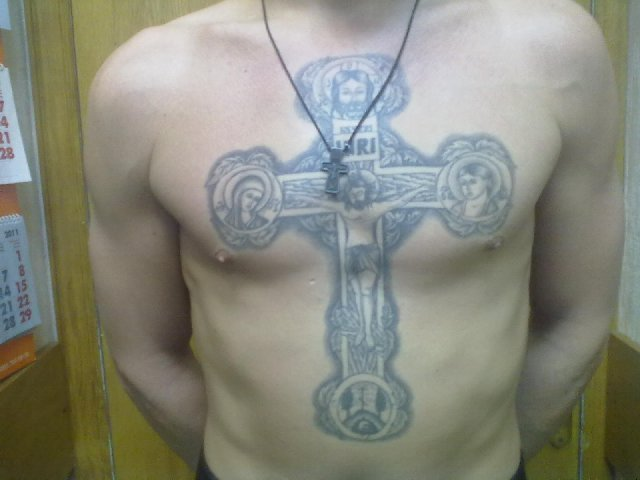tatu9_krest: (210, 63, 505, 447)
